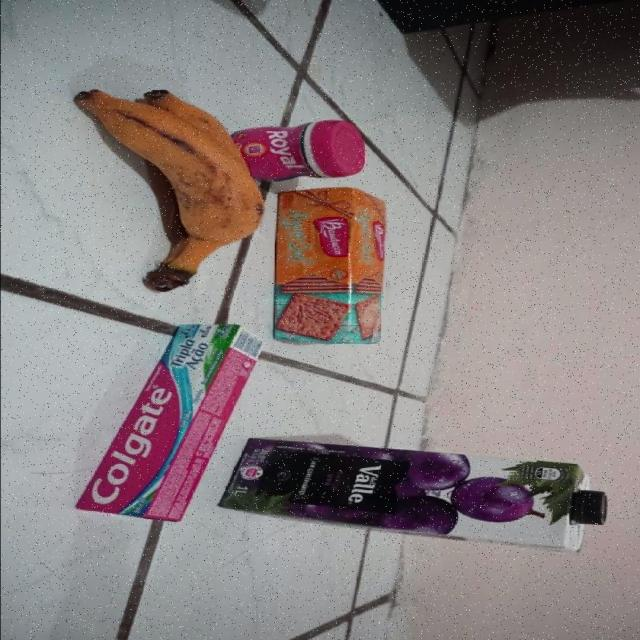Banana: (92, 67, 258, 298)
Cracker: (272, 181, 387, 345)
Toothpaste: (73, 321, 262, 520)
Yeast: (250, 119, 365, 183)
